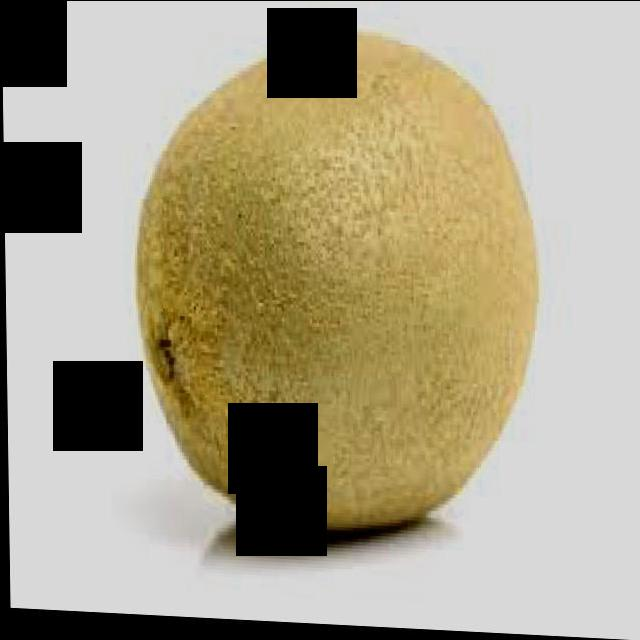kiwi: (134, 20, 544, 546)
